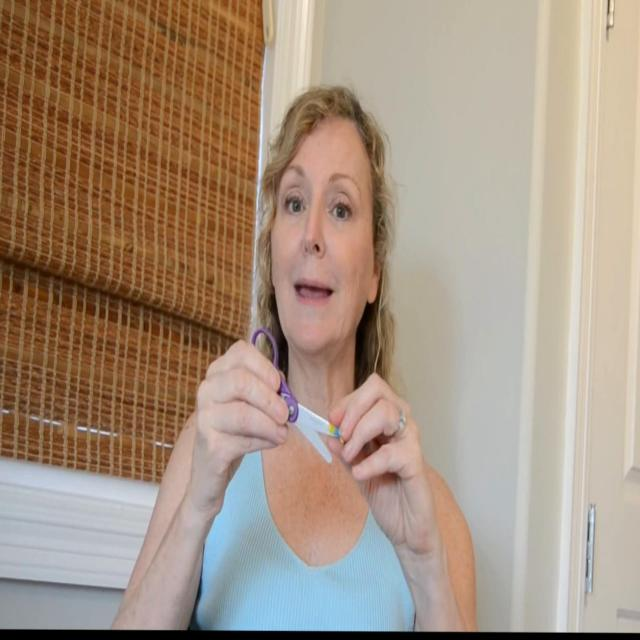scissor: (251, 330, 339, 466)
